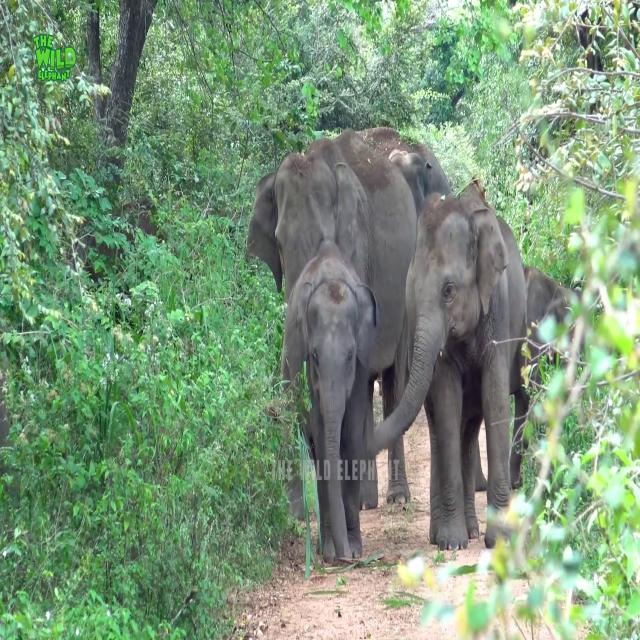Elephant: (246, 125, 452, 515), (364, 177, 529, 551), (279, 236, 378, 565)
